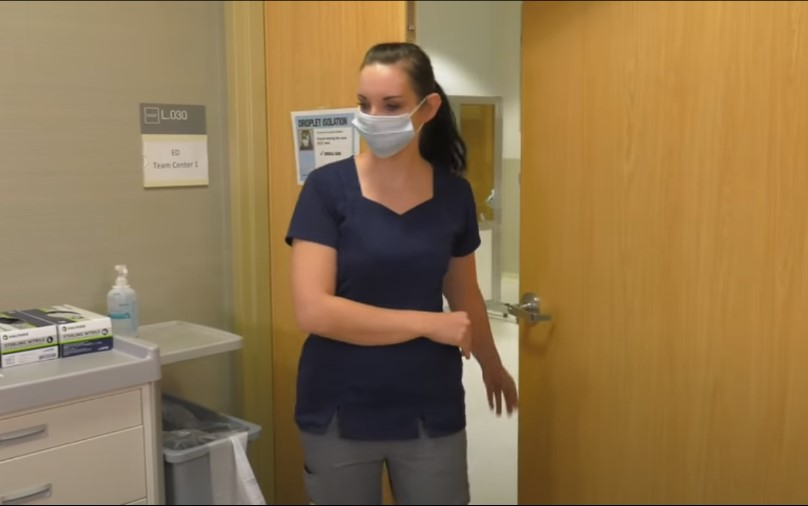face_with_mask: (351, 43, 442, 161)
